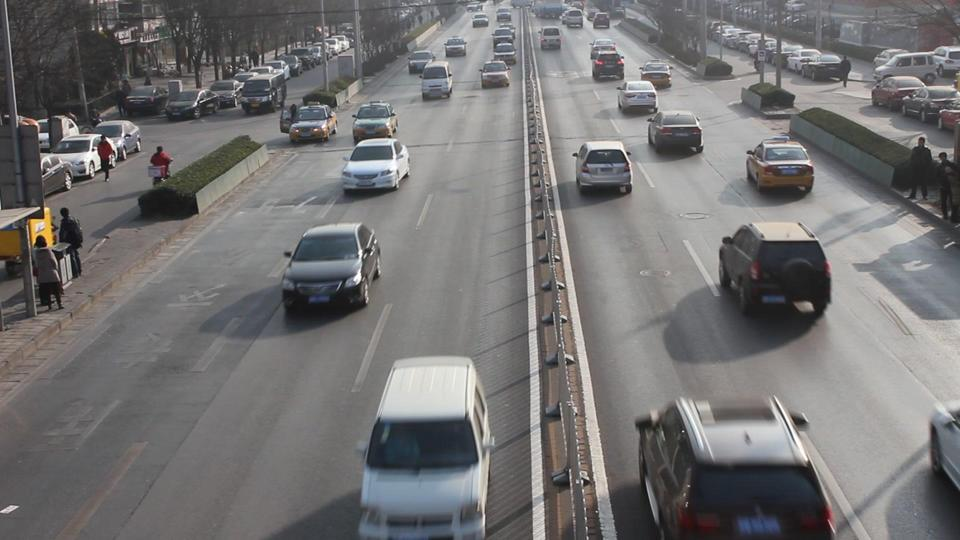Car: (634, 390, 833, 531), (718, 221, 835, 320), (284, 223, 383, 307), (746, 136, 815, 195), (342, 136, 413, 192), (576, 141, 633, 194), (648, 109, 705, 156), (351, 101, 399, 141), (287, 104, 338, 140), (617, 81, 659, 112), (591, 49, 627, 81), (639, 57, 671, 88), (479, 59, 511, 90), (408, 48, 436, 74)
Minivan: (363, 357, 488, 540), (419, 59, 453, 101)
